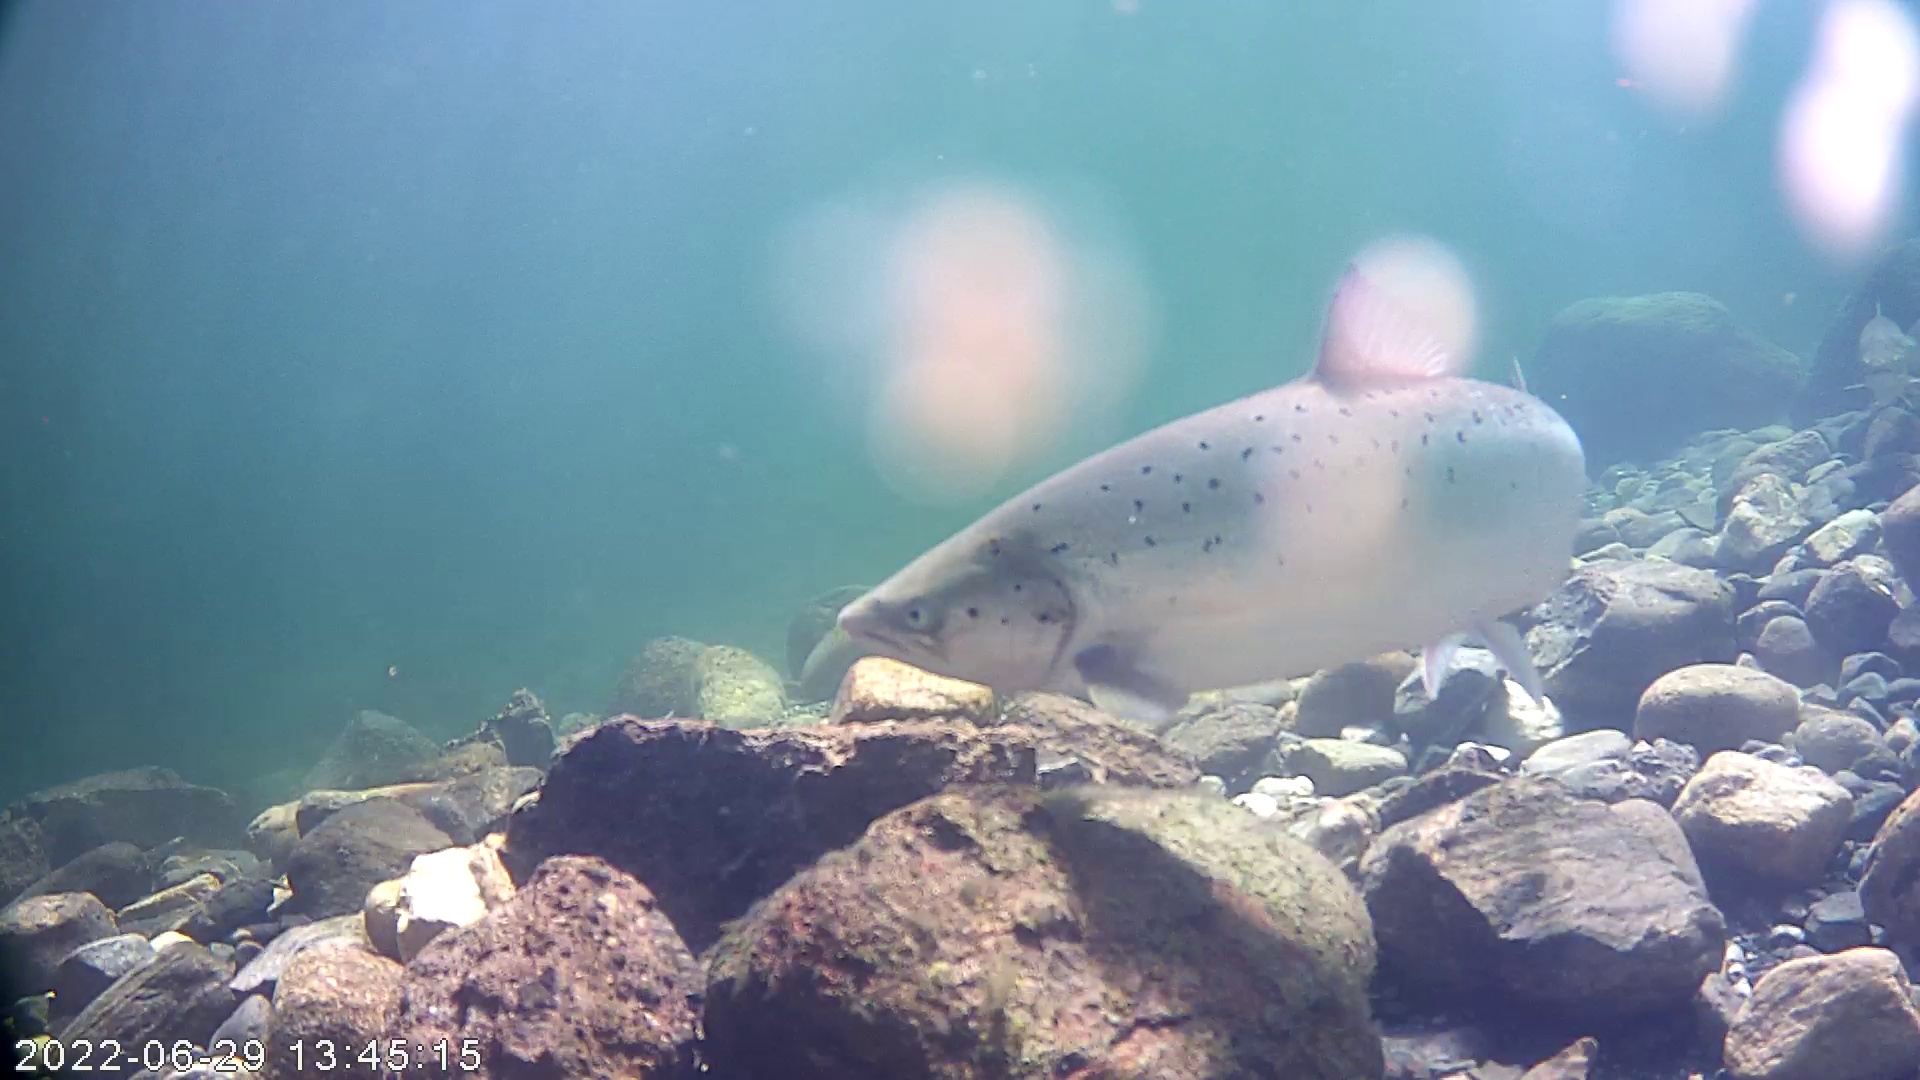salmon: (836, 295, 1609, 746)
